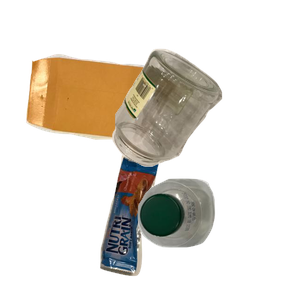glass: (110, 46, 300, 205)
paper: (23, 51, 206, 189)
plastic: (135, 176, 300, 300)
trash: (97, 152, 248, 300)
